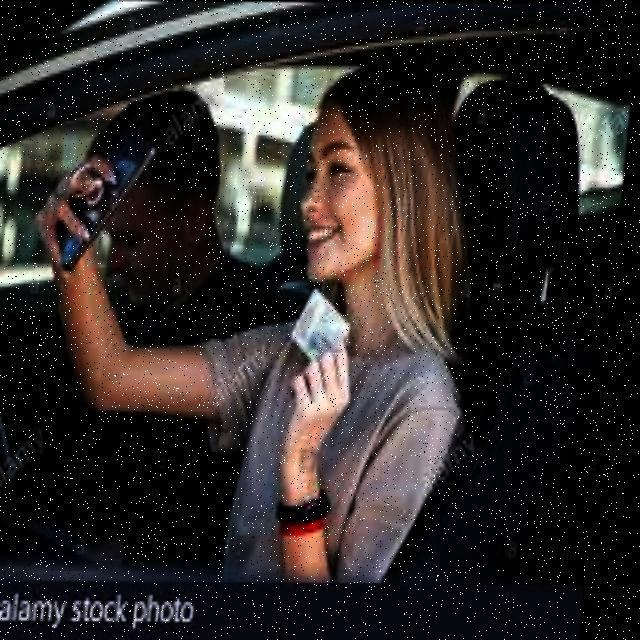noSeatbelt: (210, 276, 491, 592)
